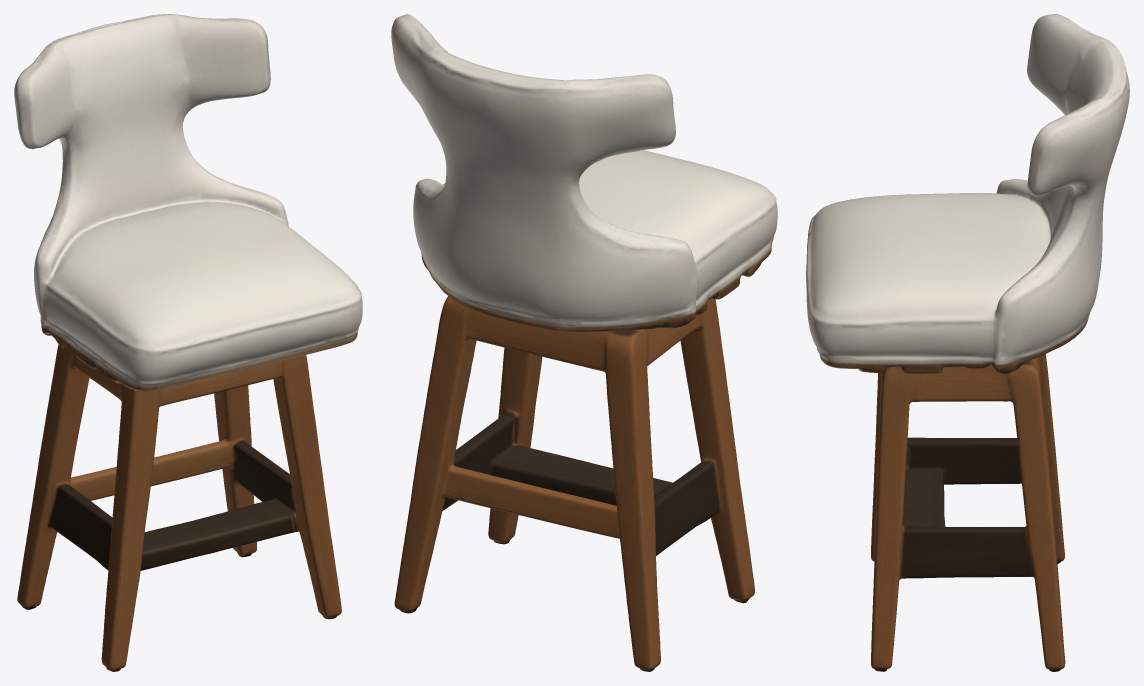
Rendered from product-glam-klismos-off-white-fabric-counter-stool-11.glb.
3 views of the same model, side by side, from view 1: azimuth 30°, elevation 25°; view 2: azimuth 150°, elevation 25°; view 3: azimuth 270°, elevation 25° (orthographic). The views are drawn at different scales.
Parts seen in each view (by area): view 1: geometry_0; view 2: geometry_0; view 3: geometry_0.
Boxes of the visible parts, box(x1,y1,x2,y2) form: geometry_0: box(14, 14, 362, 671); geometry_0: box(391, 14, 777, 671); geometry_0: box(806, 14, 1129, 671).
Bounding box in the file's own units: 0.9667 × 1.97 × 1.06.
1 material, 1 textured.
